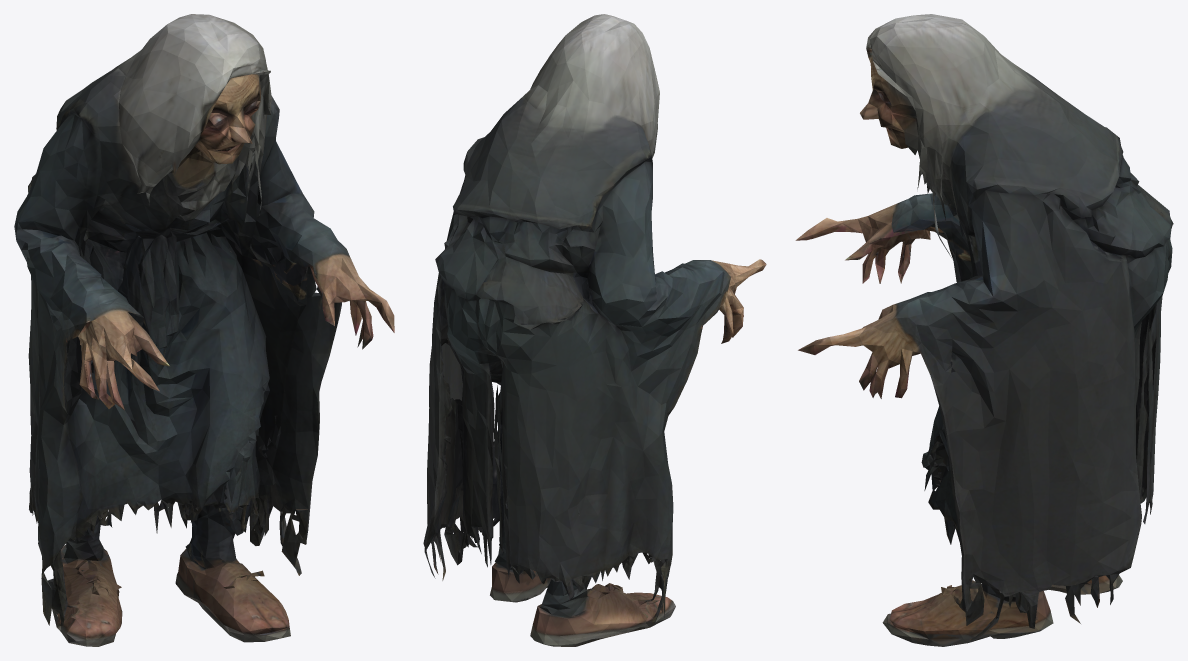
The model's file is a_scary_old_mother_fo_0528051917_texture.fbx.
3 renders of one model, left to right at view 1: azimuth 30°, elevation 25°; view 2: azimuth 150°, elevation 25°; view 3: azimuth 270°, elevation 25°, orthographic. The views are drawn at different scales.
Parts seen in each view (by area): view 1: temp; view 2: temp; view 3: temp.
Part boxes in pixels (x1,y1,x2,y2): temp: (14,14,394,646); temp: (423,14,766,646); temp: (795,14,1173,646).
Size of the model in its own units: 93.71 by 200 by 116.
Materials: 1 (1 with a texture image).
